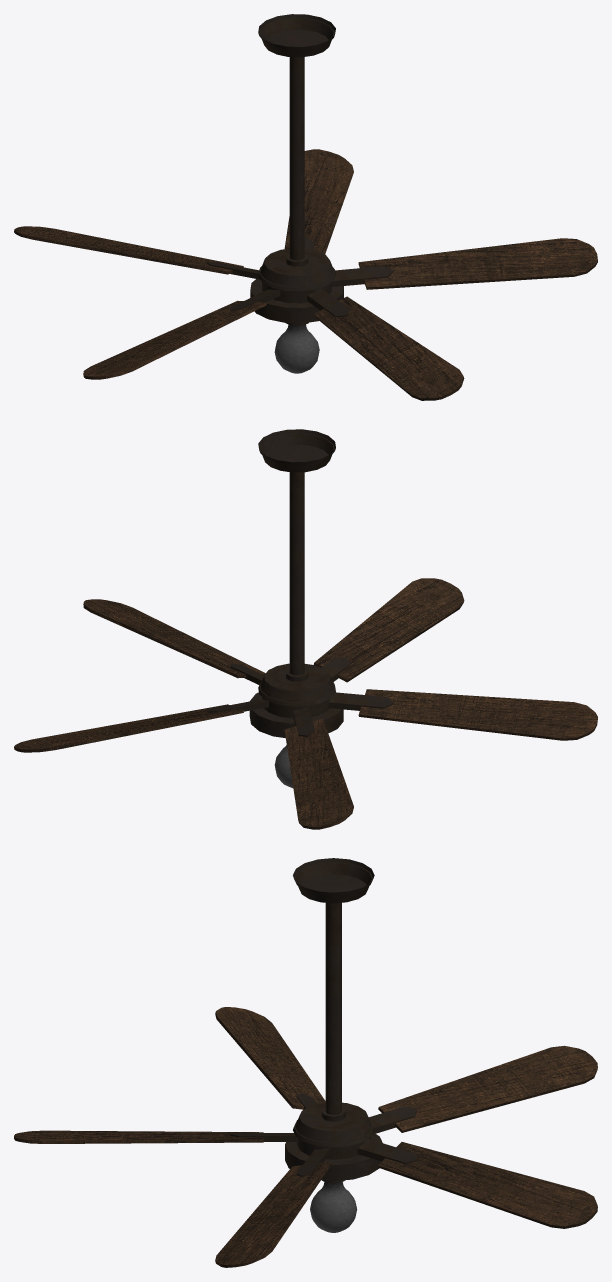
The model's file is ceiling_fan_mp_2_1_light_off.glb.
The picture shows the model from 3 angles, top to bottom: view 1: azimuth 30°, elevation 25°; view 2: azimuth 150°, elevation 25°; view 3: azimuth 270°, elevation 25°; orthographic projection. The views are drawn at different scales.
Parts seen in each view (by area): view 1: ceiling_fan_mp_2_1_light_off_blades, ceiling_fan_mp_2_1_light_off; view 2: ceiling_fan_mp_2_1_light_off_blades, ceiling_fan_mp_2_1_light_off; view 3: ceiling_fan_mp_2_1_light_off_blades, ceiling_fan_mp_2_1_light_off.
Boxes of the visible parts, box(x1,y1,x2,y2) form: ceiling_fan_mp_2_1_light_off_blades: box(14, 149, 597, 400); ceiling_fan_mp_2_1_light_off: box(250, 14, 343, 373); ceiling_fan_mp_2_1_light_off_blades: box(14, 578, 597, 829); ceiling_fan_mp_2_1_light_off: box(249, 429, 343, 788); ceiling_fan_mp_2_1_light_off_blades: box(14, 1007, 597, 1267); ceiling_fan_mp_2_1_light_off: box(285, 858, 382, 1232).
Bounding box in the file's own units: 1.11 × 0.7128 × 1.06.
3 materials, 3 textured.
